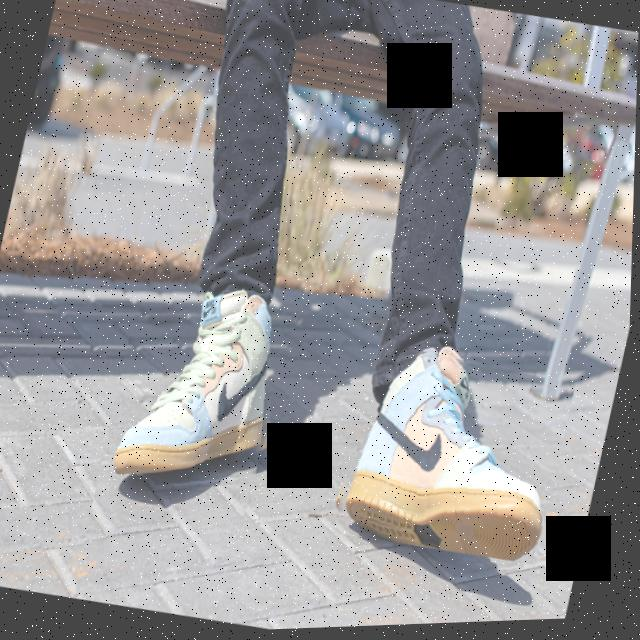shoe: (85, 252, 310, 583), (325, 335, 582, 576)
